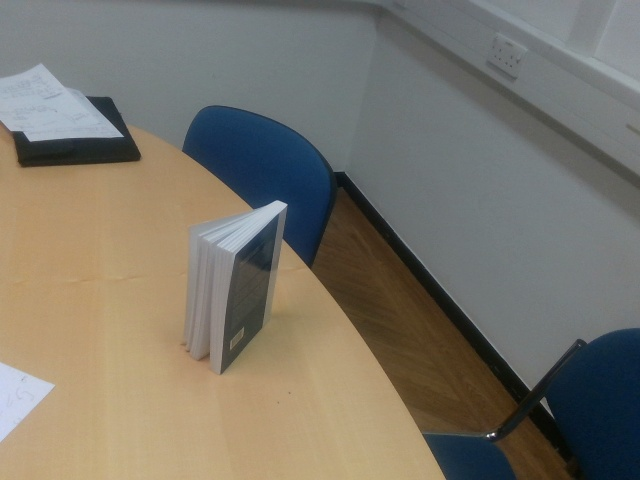book: (182, 200, 287, 375)
